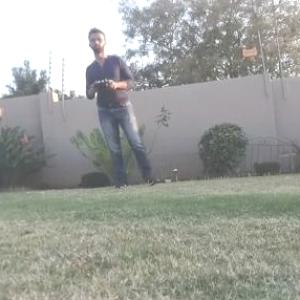follow: (84, 23, 163, 193)
